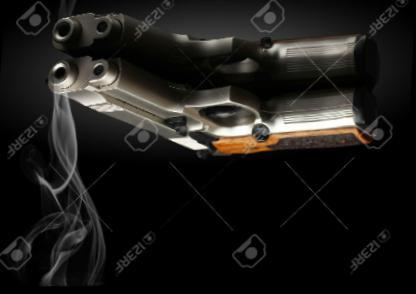pistol: (42, 43, 384, 171)
